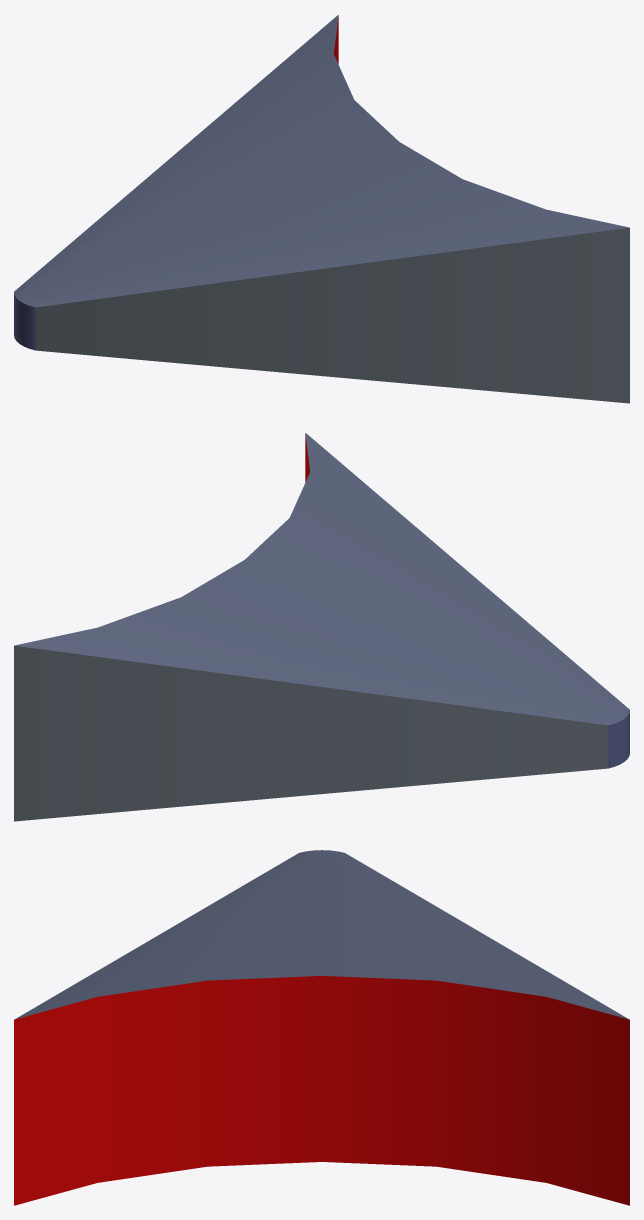
The model's file is Big_Arrow_teleport_02.fbx.
3 renders of one model, top to bottom at view 1: azimuth 30°, elevation 25°; view 2: azimuth 150°, elevation 25°; view 3: azimuth 270°, elevation 25°, orthographic. The views are drawn at different scales.
Visible parts, largest first — view 1: Arrow_B_teleport; view 2: Arrow_B_teleport; view 3: Arrow_B_teleport.
Boxes of the visible parts, left/top/right/bottom form: Arrow_B_teleport: left=14, top=15, right=629, bottom=403; Arrow_B_teleport: left=14, top=433, right=629, bottom=821; Arrow_B_teleport: left=14, top=850, right=629, bottom=1205.
Size of the model in its own units: 27.94 by 10.11 by 30.32.
